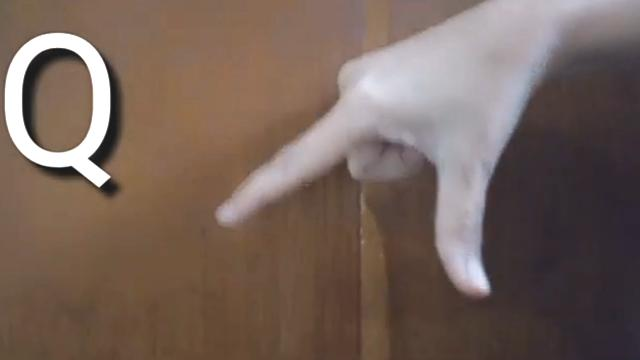Q: (214, 0, 542, 304)
